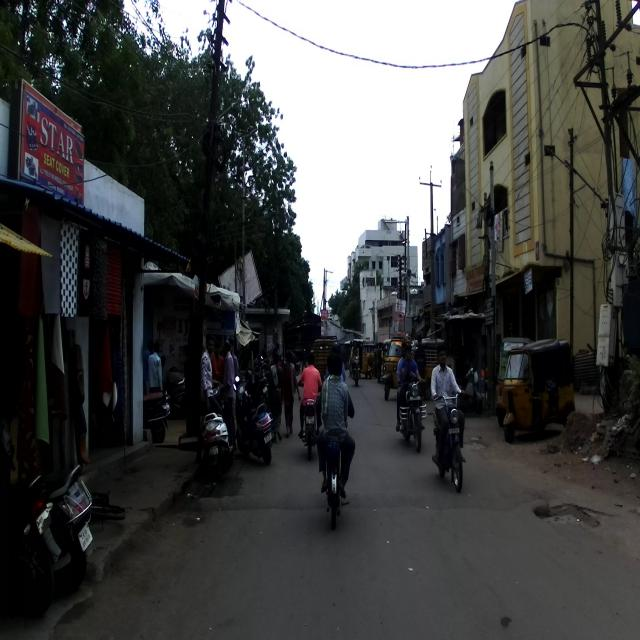autorickshaw: (501, 337, 576, 443), (382, 334, 439, 399)
motorcycle_Hero: (299, 397, 318, 455)
motorcycle_RoyalEnfield: (398, 376, 426, 453)
motorcycle_TVS: (430, 388, 467, 492)
scooter: (1, 419, 94, 590), (232, 374, 273, 464), (202, 380, 234, 486)
